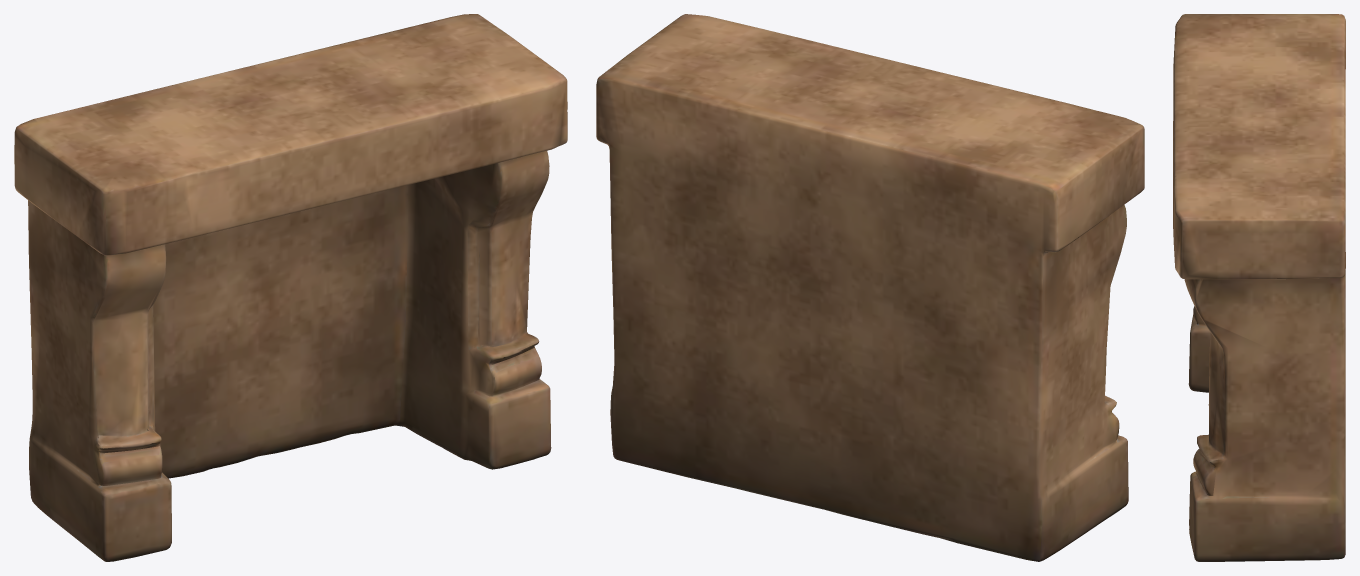
Rendered from simple-sandstone-fireplace-v001.glb.
3 renders of one model, left to right at view 1: azimuth 30°, elevation 25°; view 2: azimuth 150°, elevation 25°; view 3: azimuth 270°, elevation 25°, orthographic. The views are drawn at different scales.
Parts seen in each view (by area): view 1: simple-sandstone-fireplace; view 2: simple-sandstone-fireplace; view 3: simple-sandstone-fireplace.
Part boxes in pixels (box(x1,y1,x2,y2)): simple-sandstone-fireplace: box(14, 14, 567, 561); simple-sandstone-fireplace: box(596, 14, 1144, 561); simple-sandstone-fireplace: box(1173, 14, 1345, 561).
Size of the model in its own units: 2.18 by 1.72 by 0.7668.
1 material, 1 textured.
